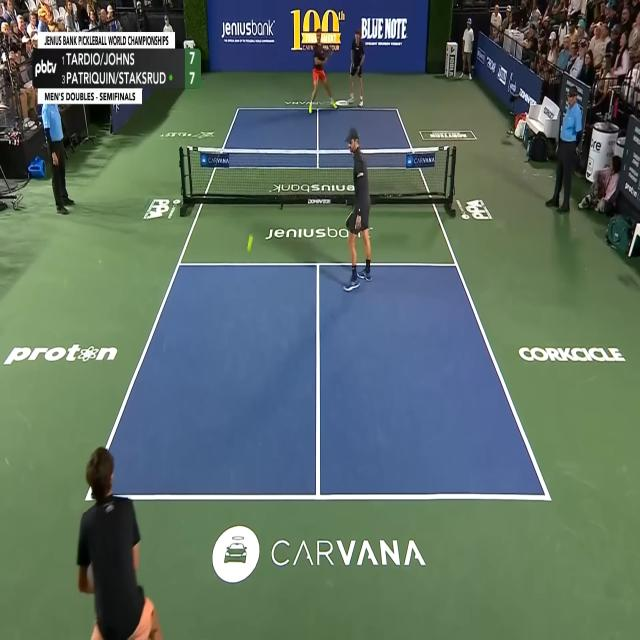ball: (246, 234, 254, 253)
